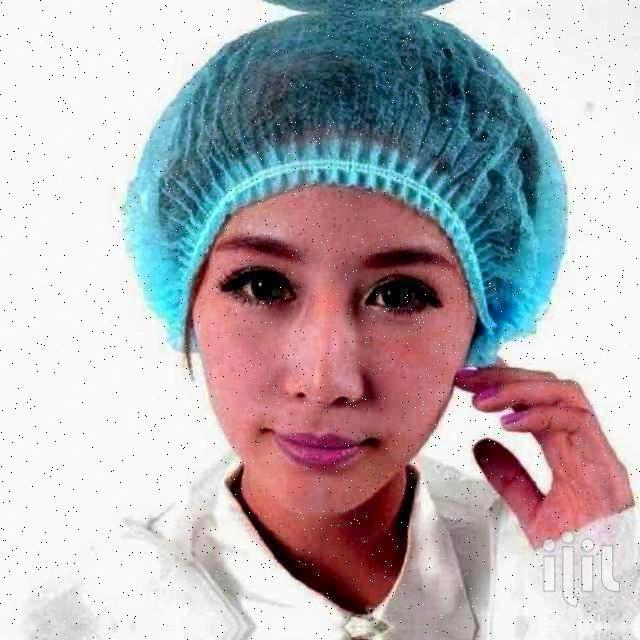gloves: (79, 3, 567, 204)
no_hairnet: (203, 363, 431, 503)
